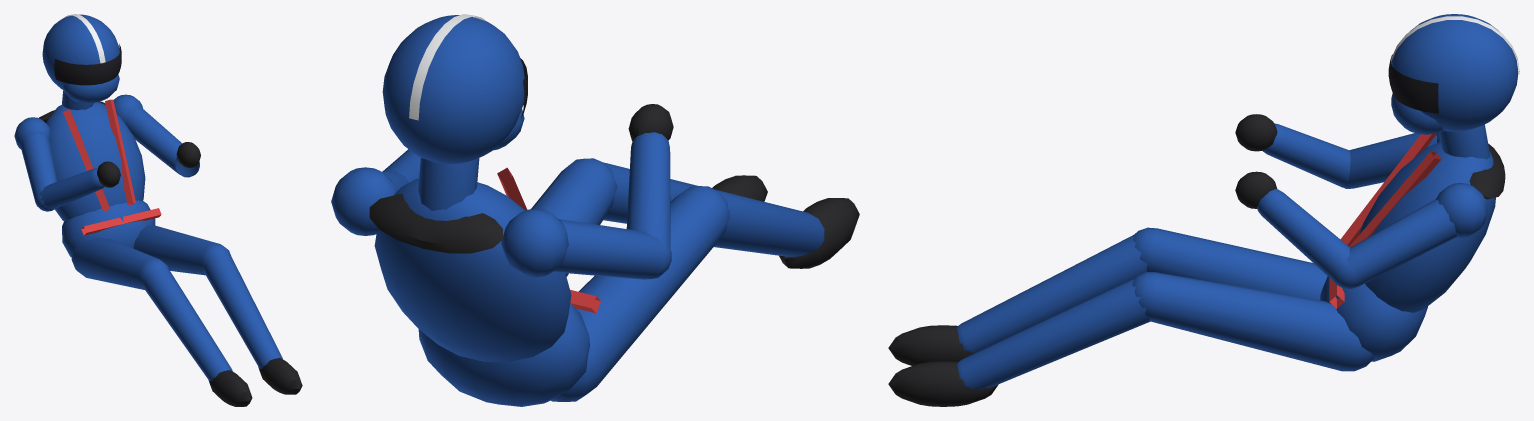
The model's file is posh_gt3rs_driver.glb.
3 views of the same model, side by side, from view 1: azimuth 30°, elevation 25°; view 2: azimuth 150°, elevation 25°; view 3: azimuth 270°, elevation 25° (orthographic). The views are drawn at different scales.
Parts seen in each view (by area): view 1: posh_gt3rs_driver; view 2: posh_gt3rs_driver; view 3: posh_gt3rs_driver.
Boxes of the visible parts, x1,y1,x2,y2 form: posh_gt3rs_driver: (14, 14, 302, 406); posh_gt3rs_driver: (331, 14, 859, 406); posh_gt3rs_driver: (888, 14, 1519, 406).
Bounding box in the file's own units: 0.647 × 0.957 × 1.48.
